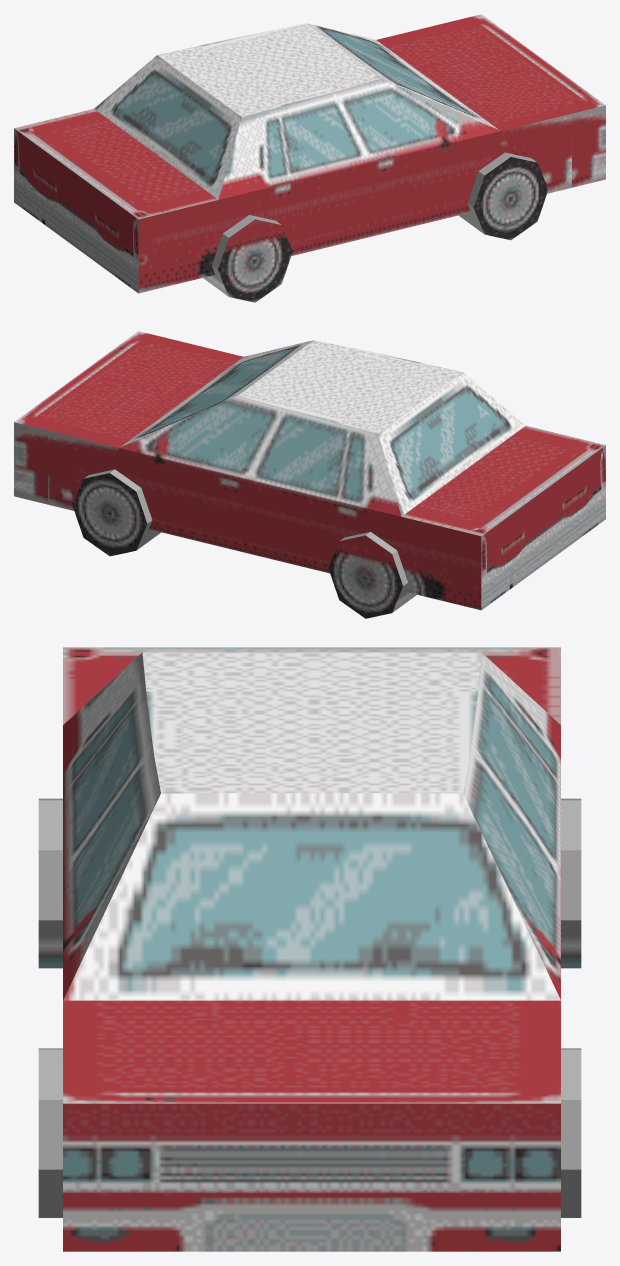
The model's file is Street_Car.fbx.
3 renders of one model, top to bottom at view 1: azimuth 30°, elevation 25°; view 2: azimuth 150°, elevation 25°; view 3: azimuth 270°, elevation 25°, orthographic. The views are drawn at different scales.
Parts seen in each view (by area): view 1: Cube.009; view 2: Cube.009; view 3: Cube.009.
Part boxes in pixels (x1,y1,x2,y2): Cube.009: [14, 14, 605, 302]; Cube.009: [14, 331, 605, 618]; Cube.009: [38, 647, 581, 1251].
Size of the model in its own units: 407 by 136 by 205.
